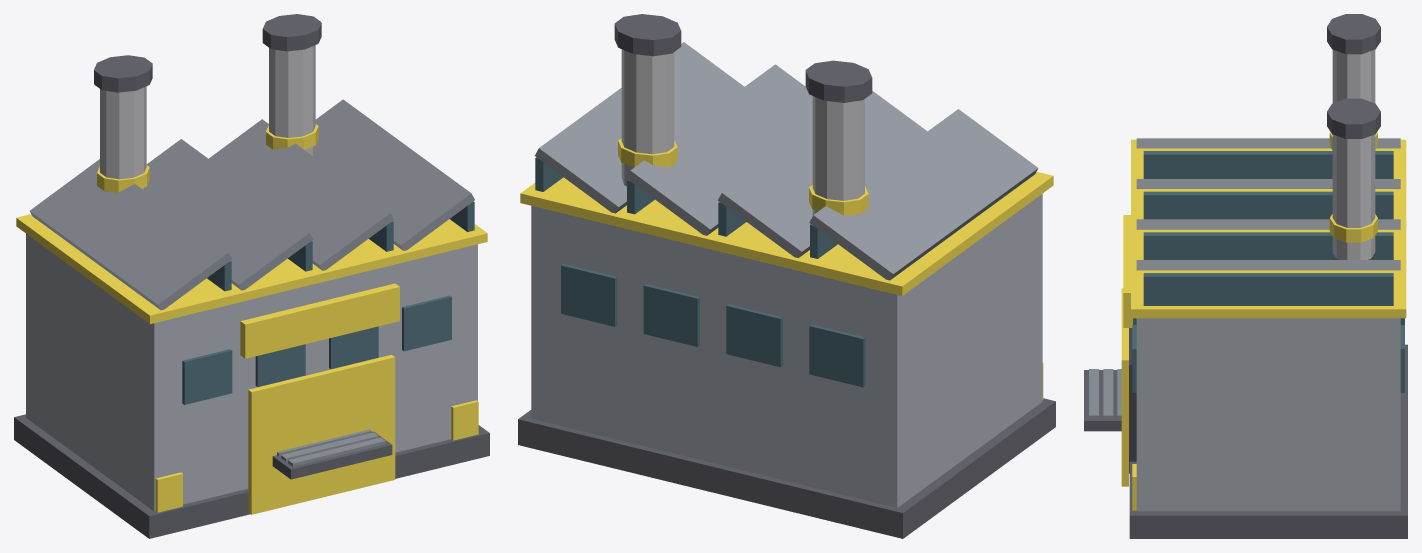
The model's file is factory.glb.
3 renders of one model, left to right at view 1: azimuth 30°, elevation 25°; view 2: azimuth 150°, elevation 25°; view 3: azimuth 270°, elevation 25°, orthographic. The views are drawn at different scales.
Parts seen in each view (by area): view 1: factory; view 2: factory; view 3: factory.
Boxes of the visible parts, x1,y1,x2,y2 form: factory: (14, 14, 489, 538); factory: (518, 14, 1055, 538); factory: (1084, 14, 1407, 538).
Size of the model in its own units: 2.5 by 2.61 by 2.
